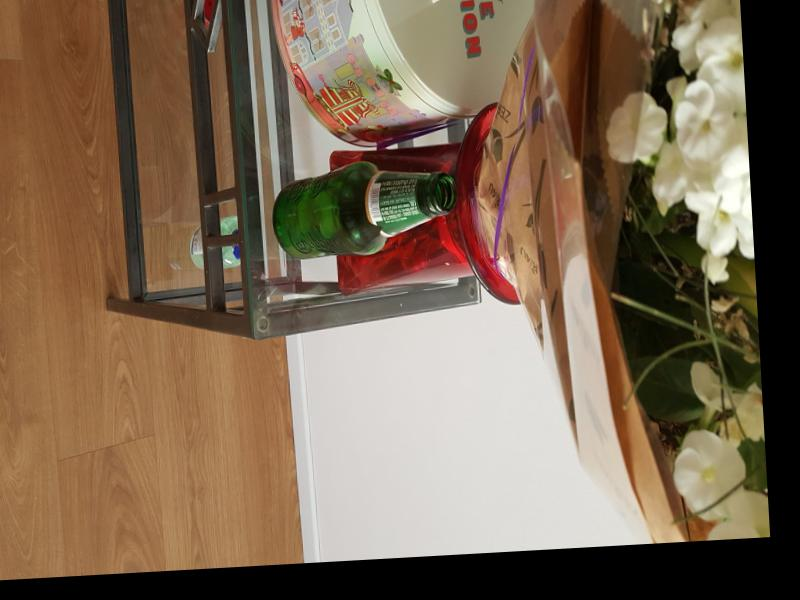Beer: (268, 156, 457, 261)
